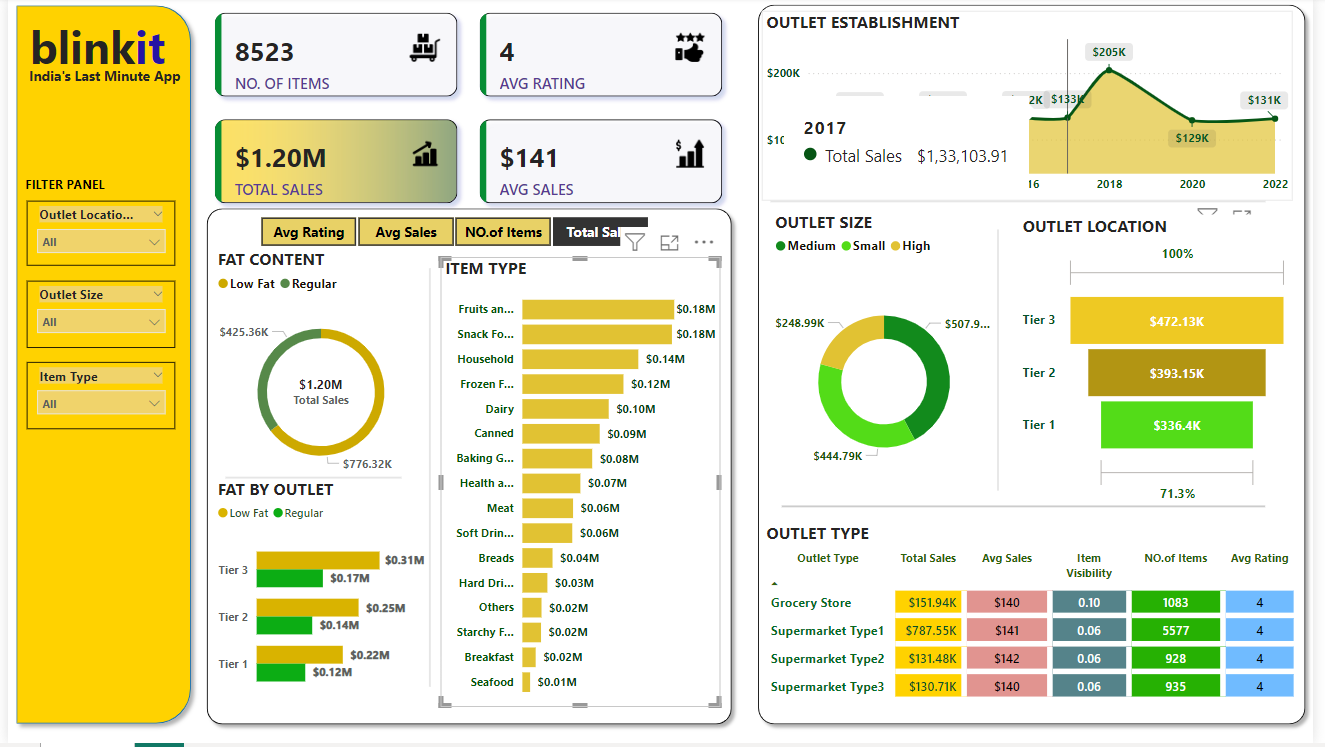

The page's visual inventory and layout, read from the dashboard file:
{"tool":"powerbi","page":{"name":"Page 1","canvas":[1400,800],"ordinal":0},"visuals":[{"type":"shape","box":[0,0,205.1,788.2],"z":0},{"type":"textbox","box":[0,14.7,191.7,80.4],"z":1000},{"type":"textbox","box":[13.4,69.7,178.3,52.3],"z":2000},{"type":"cardVisual","fields":{"Data":["BlinkIT Grocery Data.NO.of Items","BlinkIT Grocery Data.Avg Rating","BlinkIT Grocery Data.Total Sales","BlinkIT Grocery Data.Avg Sales"]},"box":[205.1,0,579.1,238.6],"z":3000},{"type":"shape","box":[205.1,218.5,579.1,569.7],"z":4000},{"type":"donutChart","title":" FAT CONTENT","fields":{"Y":["BlinkIT Grocery Data.Total Sales"],"Category":["BlinkIT Grocery Data.Item Fat Content"]},"box":[219.8,269.4,231.9,261.4],"z":5000},{"type":"slicer","fields":{"Values":["matrixes.matrixes"]},"box":[245.3,229.2,465.1,40.2],"z":6000},{"type":"cardVisual","fields":{"Data":["BlinkIT Grocery Data.Total Sales"]},"box":[288.2,394.1,95.2,60.3],"z":7000},{"type":"clusteredBarChart","title":"FAT BY OUTLET","fields":{"Y":["BlinkIT Grocery Data.Total Sales"],"Category":["BlinkIT Grocery Data.Outlet Location Type"],"Series":["BlinkIT Grocery Data.Item Fat Content"]},"box":[219.8,516.1,231.9,245.3],"z":8000},{"type":"shape","box":[233.2,501.3,189,28.2],"z":9000},{"type":"shape","box":[441,290.9,22.8,449.1],"z":10000},{"type":"barChart","title":"ITEM TYPE","fields":{"Y":["BlinkIT Grocery Data.Total Sales"],"Category":["BlinkIT Grocery Data.Item Type"]},"box":[463.8,278.8,300.3,482.6],"z":11000},{"type":"shape","box":[796.3,0,603.2,788.2],"z":12000},{"type":"lineChart","title":"OUTLET ESTABLISHMENT","fields":{"Category":["BlinkIT Grocery Data.Outlet Establishment Year"],"Y":["BlinkIT Grocery Data.Total Sales"]},"box":[808.3,14.7,569.7,203.8],"z":13000},{"type":"shape","box":[817.7,205.1,530.8,28.2],"z":13001},{"type":"donutChart","title":"OUTLET SIZE","fields":{"Y":["BlinkIT Grocery Data.Total Sales"],"Category":["BlinkIT Grocery Data.Outlet Size"]},"box":[817.7,229.2,244,319],"z":13002},{"type":"funnel","title":"OUTLET LOCATION","fields":{"Category":["BlinkIT Grocery Data.Outlet Location Type"],"Y":["Sum(BlinkIT Grocery Data.Sales)"]},"box":[1083.1,233.2,294.9,315],"z":13003},{"type":"shape","box":[829.8,529.5,518.8,33.5],"z":13004},{"type":"shape","box":[1050.9,249.3,21.4,280.2],"z":13005},{"type":"pivotTable","title":"OUTLET TYPE","fields":{"Rows":["BlinkIT Grocery Data.Outlet Type"],"Values":["BlinkIT Grocery Data.Total Sales","BlinkIT Grocery Data.Avg Sales","Avg(BlinkIT Grocery Data.Item Visibility)","BlinkIT Grocery Data.NO.of Items","BlinkIT Grocery Data.Avg Rating"]},"box":[808.3,563,579.1,198.4],"z":13006},{"type":"slicer","fields":{"Values":["BlinkIT Grocery Data.Outlet Location Type"]},"box":[20.1,218.5,159.5,69.7],"z":13007},{"type":"slicer","fields":{"Values":["BlinkIT Grocery Data.Outlet Size"]},"box":[20.1,304.3,159.5,72.4],"z":13008},{"type":"slicer","fields":{"Values":["BlinkIT Grocery Data.Item Type"]},"box":[20.1,391.4,159.5,72.4],"z":13009},{"type":"textbox","box":[13.4,186.3,166.2,32.2],"z":13010}]}

Visuals, with their boxes in screenshot pixels (x1, y1, x2, y2), scaled from the page's 1400x800 canvas onto the 1325x747 screenshot:
shape: [0, 0, 194, 736]
textbox: [0, 14, 181, 89]
textbox: [13, 65, 181, 114]
cardVisual - BlinkIT Grocery Data.NO.of Items x BlinkIT Grocery Data.Avg Rating: [194, 0, 742, 223]
shape: [194, 204, 742, 736]
" FAT CONTENT" donutChart: [208, 252, 428, 496]
slicer - matrixes.matrixes: [232, 214, 672, 252]
cardVisual - BlinkIT Grocery Data.Total Sales: [273, 368, 363, 424]
"FAT BY OUTLET" clusteredBarChart: [208, 482, 428, 711]
shape: [221, 468, 400, 494]
shape: [417, 272, 439, 691]
"ITEM TYPE" barChart: [439, 260, 723, 711]
shape: [754, 0, 1324, 736]
"OUTLET ESTABLISHMENT" lineChart: [765, 14, 1304, 204]
shape: [774, 192, 1276, 218]
"OUTLET SIZE" donutChart: [774, 214, 1005, 512]
"OUTLET LOCATION" funnel: [1025, 218, 1304, 512]
shape: [785, 494, 1276, 526]
shape: [995, 233, 1015, 494]
"OUTLET TYPE" pivotTable: [765, 526, 1313, 711]
slicer - BlinkIT Grocery Data.Outlet Location Type: [19, 204, 170, 269]
slicer - BlinkIT Grocery Data.Outlet Size: [19, 284, 170, 352]
slicer - BlinkIT Grocery Data.Item Type: [19, 365, 170, 433]
textbox: [13, 174, 170, 204]
